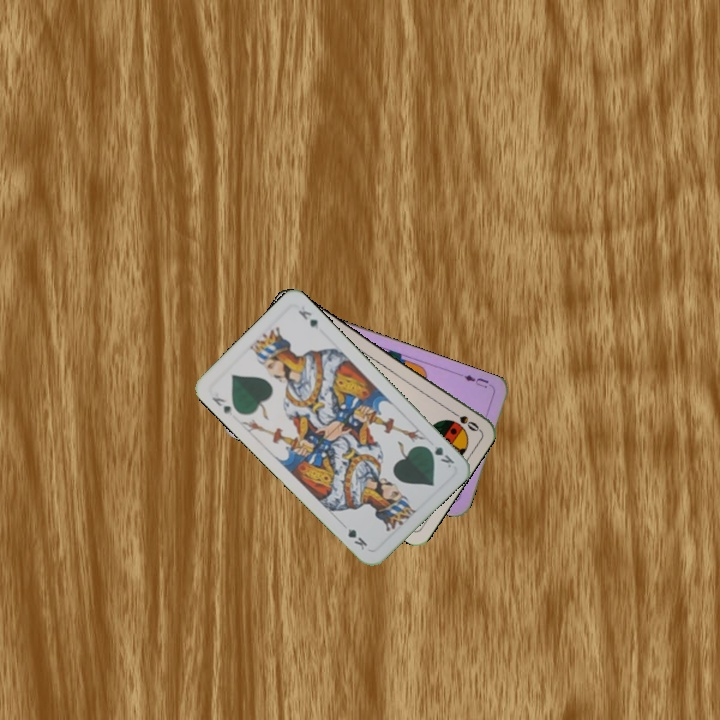EU: (460, 371, 496, 392)
GK: (421, 441, 457, 470), (208, 393, 235, 418)
SO: (446, 406, 482, 434)
